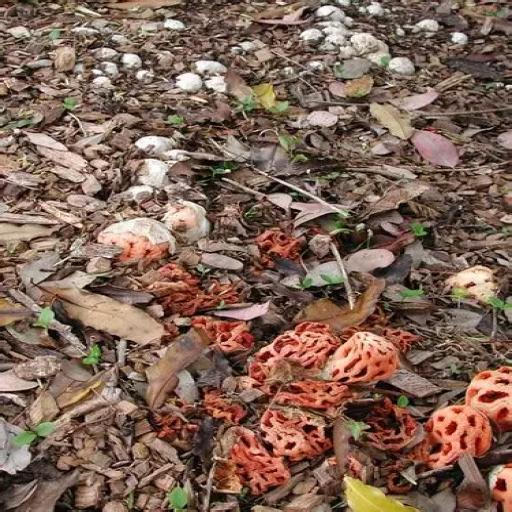mushroom: (243, 307, 344, 405), (212, 422, 296, 503), (410, 397, 497, 471), (354, 395, 423, 462), (320, 329, 400, 385), (259, 408, 330, 461), (188, 313, 256, 357), (465, 366, 511, 431), (277, 380, 351, 409)
